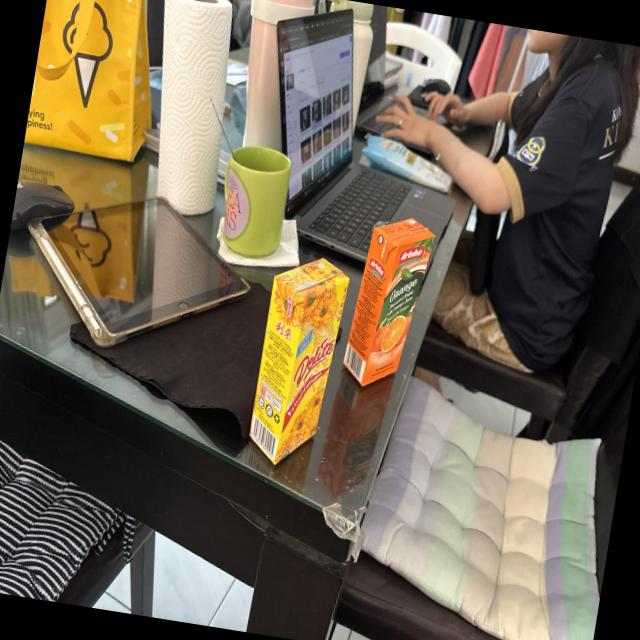drink_carton: (240, 244, 357, 476), (338, 206, 442, 403)
